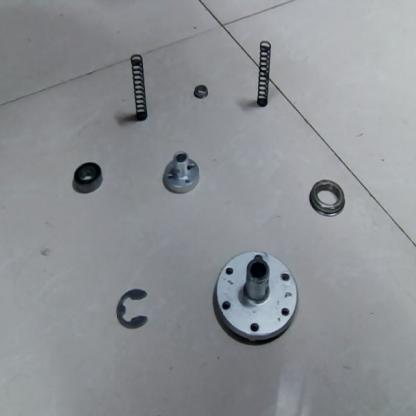FOD: (210, 247, 298, 348), (159, 149, 200, 197), (113, 284, 152, 333), (128, 52, 150, 125), (308, 179, 348, 219), (253, 40, 273, 113), (70, 160, 105, 195), (190, 82, 210, 102)
